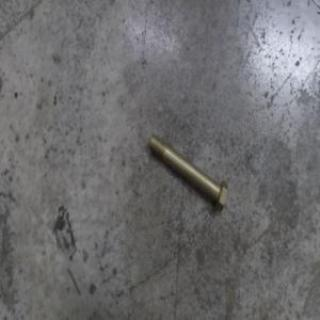Bolttrack_idkeyframe: (148, 132, 227, 214)
